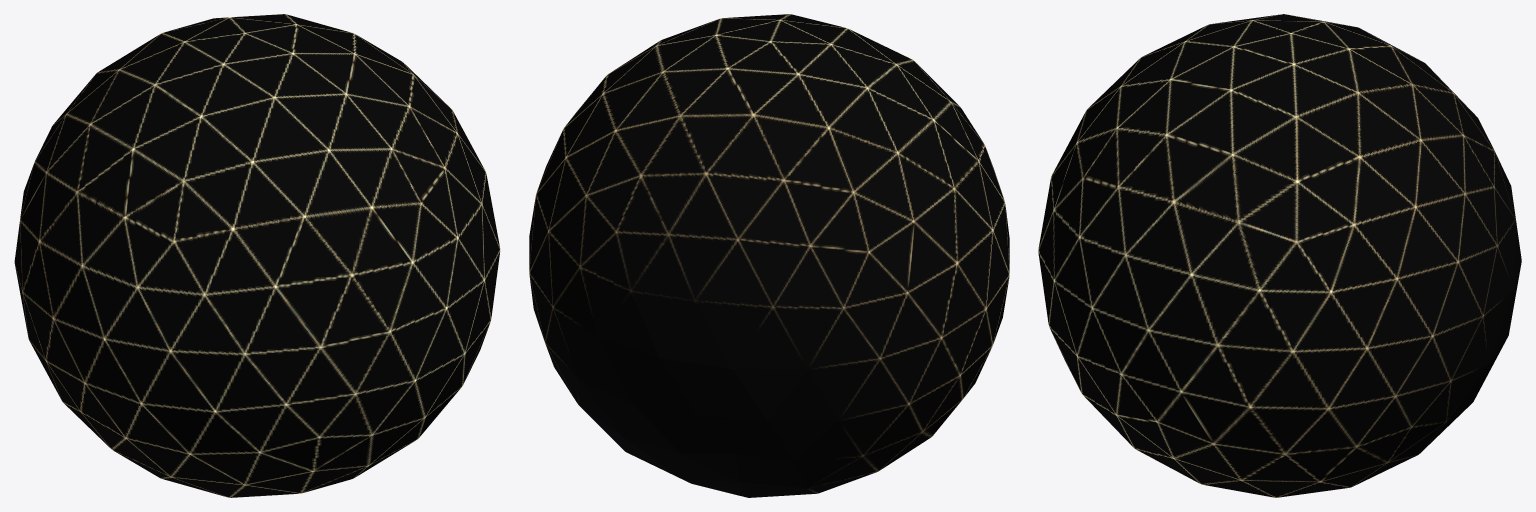
3 views of the same model, side by side, from view 1: azimuth 30°, elevation 25°; view 2: azimuth 150°, elevation 25°; view 3: azimuth 270°, elevation 25° (orthographic).
Parts seen in each view (by area): view 1: Icosphere_2 (wireframe+points); view 2: Icosphere_2 (wireframe+points); view 3: Icosphere_2 (wireframe+points).
Boxes of the visible parts, x1=… form: Icosphere_2 (wireframe+points): x1=14, y1=14, x2=500, y2=497; Icosphere_2 (wireframe+points): x1=529, y1=14, x2=1009, y2=497; Icosphere_2 (wireframe+points): x1=1038, y1=14, x2=1521, y2=497.
Size of the model in its own units: 1.67 by 1.68 by 1.67.
1 material, 1 textured.
